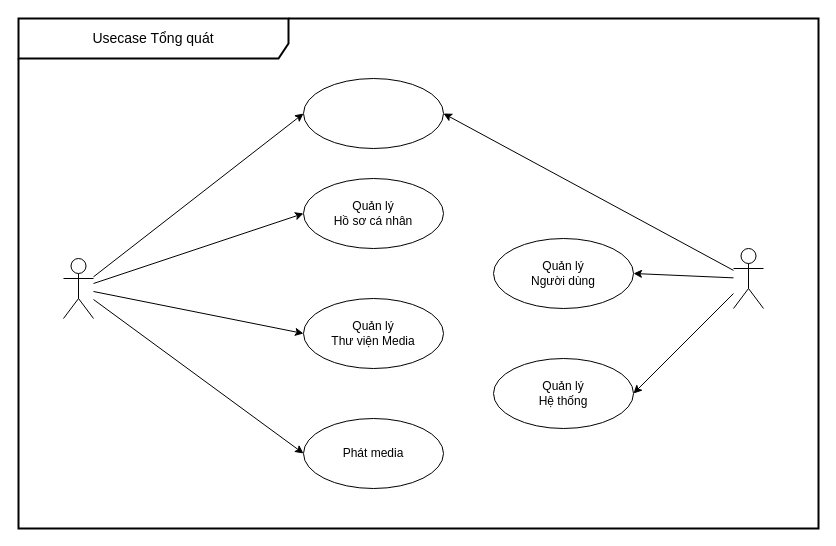
Some shapes in this 836 by 546 pixel diagram are drawn without their labels. Each missing label, with the centre of its shape:
Người dùng: point 78,288
Quản trị viên: point 748,278
Đăng nhập / Xác thực: point 373,113
